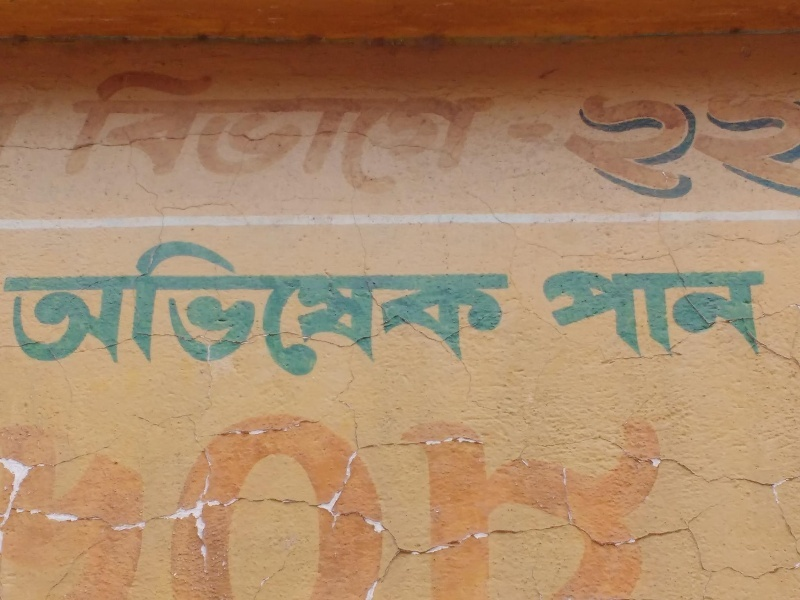text: (17, 407, 32, 597), (33, 407, 48, 597), (49, 407, 64, 597), (65, 407, 80, 597), (81, 407, 96, 597), (97, 407, 112, 597), (113, 407, 128, 597), (129, 407, 144, 597), (145, 407, 160, 597), (161, 407, 176, 597), (177, 407, 192, 597), (193, 407, 208, 597), (209, 407, 224, 597), (225, 407, 240, 597), (241, 407, 256, 597), (257, 407, 272, 597), (273, 407, 288, 597), (289, 407, 304, 597), (305, 407, 320, 597), (321, 407, 336, 597), (337, 407, 352, 597), (353, 407, 368, 597), (369, 407, 384, 597), (385, 407, 400, 597), (401, 407, 416, 597), (417, 407, 432, 597), (433, 407, 448, 597), (449, 407, 464, 597), (465, 407, 480, 597), (481, 407, 496, 597), (497, 407, 512, 597), (513, 407, 528, 597), (529, 407, 544, 597), (545, 407, 560, 597), (561, 407, 576, 597), (577, 407, 592, 597), (593, 407, 608, 597), (609, 407, 624, 597), (625, 407, 640, 597), (641, 407, 656, 597), (17, 239, 32, 385), (33, 239, 48, 385), (49, 239, 64, 385), (65, 239, 80, 385), (81, 239, 96, 385), (97, 239, 112, 385), (113, 239, 128, 385), (129, 239, 144, 385), (145, 239, 160, 385), (161, 239, 176, 385), (177, 239, 192, 385), (193, 239, 208, 385), (209, 239, 224, 385), (225, 239, 240, 385), (241, 239, 256, 385), (257, 239, 272, 385), (273, 239, 288, 385), (289, 239, 304, 385), (305, 239, 320, 385), (321, 239, 336, 385), (337, 239, 352, 385), (353, 239, 368, 385), (369, 239, 384, 385), (385, 239, 400, 385), (401, 239, 416, 385), (417, 239, 432, 385), (433, 239, 448, 385), (449, 239, 464, 385), (465, 239, 480, 385), (481, 239, 496, 385), (497, 239, 512, 385), (81, 65, 96, 198), (97, 65, 112, 198), (113, 65, 128, 198), (129, 65, 144, 198), (145, 65, 160, 198), (161, 65, 176, 198), (177, 65, 192, 198), (193, 65, 208, 198), (209, 65, 224, 198), (225, 65, 240, 198), (241, 65, 256, 198), (257, 65, 272, 198), (273, 65, 288, 198), (289, 65, 304, 198), (305, 65, 320, 198), (321, 65, 336, 198), (337, 65, 352, 198), (353, 65, 368, 198), (369, 65, 384, 198), (385, 65, 400, 198), (401, 65, 416, 198), (417, 65, 432, 198), (433, 65, 448, 198), (449, 65, 464, 198), (465, 65, 480, 198), (481, 65, 496, 198), (497, 65, 512, 198), (513, 65, 528, 198), (529, 65, 544, 198), (545, 65, 560, 198), (6, 407, 16, 597), (3, 239, 16, 385), (577, 82, 592, 201), (593, 82, 608, 201), (609, 82, 624, 201), (625, 82, 640, 201), (641, 82, 656, 201), (657, 82, 672, 201), (673, 82, 688, 201), (689, 82, 704, 201), (705, 82, 720, 201), (721, 82, 736, 201), (737, 82, 752, 201), (753, 82, 768, 201), (769, 82, 784, 201), (785, 82, 800, 201), (545, 257, 560, 368), (561, 257, 576, 368), (577, 257, 592, 368), (593, 257, 608, 368), (609, 257, 624, 368), (625, 257, 640, 368), (641, 257, 656, 368), (657, 257, 672, 368), (673, 257, 688, 368), (689, 257, 704, 368), (705, 257, 720, 368), (721, 257, 736, 368), (737, 257, 752, 368), (753, 257, 768, 368), (657, 407, 665, 597), (568, 82, 576, 201), (73, 65, 80, 198), (561, 65, 567, 198), (769, 257, 776, 368), (538, 257, 544, 368), (513, 239, 514, 385)
